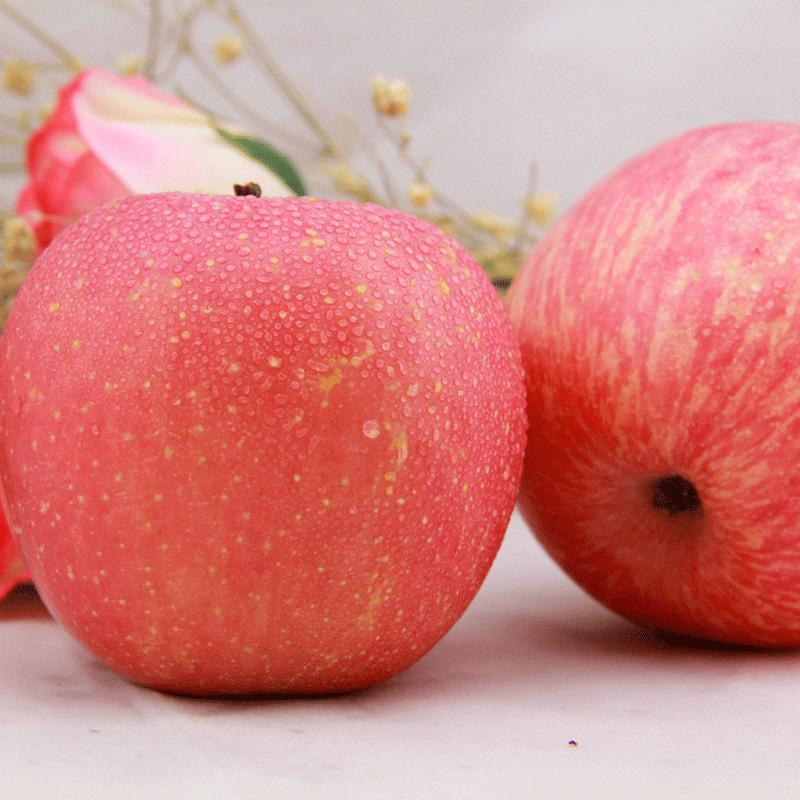apple: (1, 196, 533, 698), (507, 124, 800, 650)
